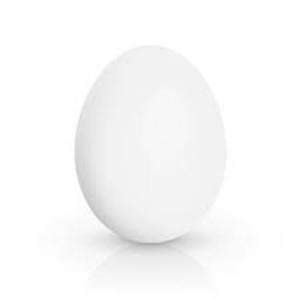Egg: (70, 42, 230, 248)
